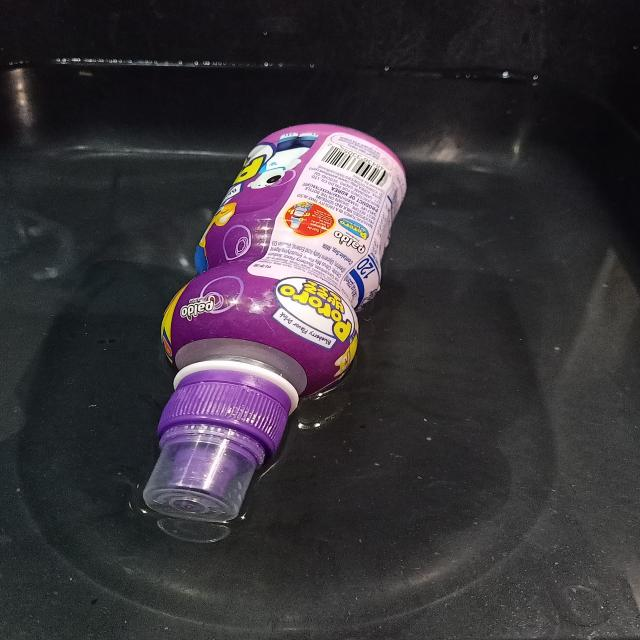Plastic Bottle: (143, 124, 406, 522)
